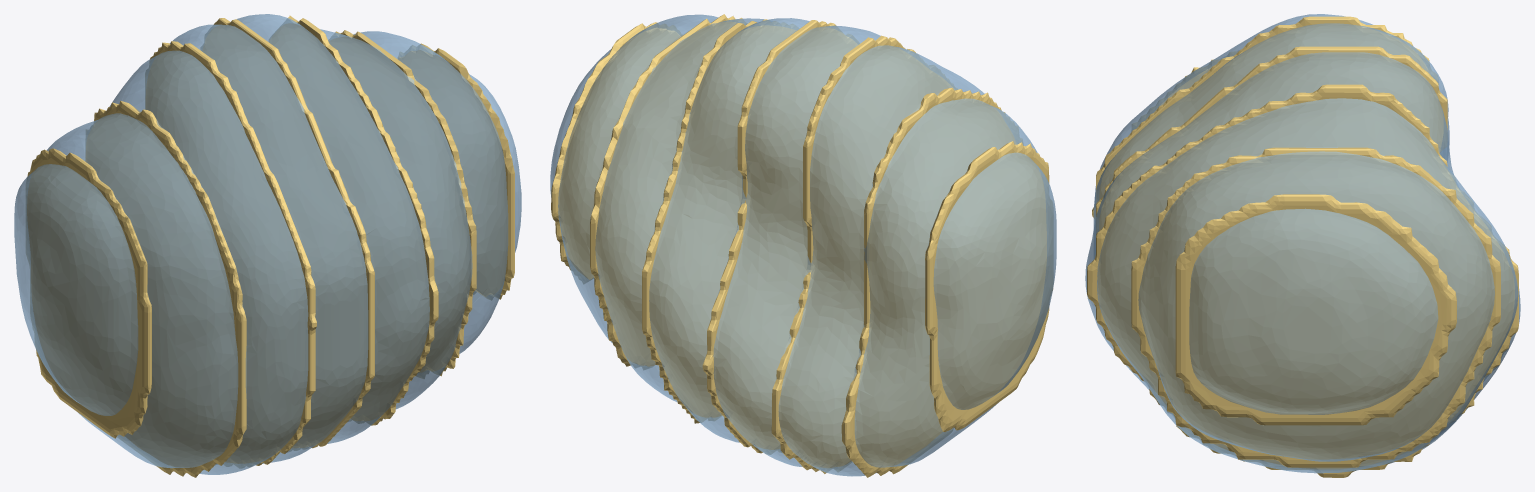
The model's file is prompt.glb.
3 views of the same model, side by side, from view 1: azimuth 30°, elevation 25°; view 2: azimuth 150°, elevation 25°; view 3: azimuth 270°, elevation 25° (orthographic). The views are drawn at different scales.
Parts seen in each view (by area): view 1: world; view 2: world; view 3: world.
Part boxes in pixels (bbox=[...]): world: bbox=[14, 14, 521, 477]; world: bbox=[550, 14, 1056, 477]; world: bbox=[1085, 14, 1520, 477].
Size of the model in its own units: 0.9453 by 0.8177 by 0.7685.
